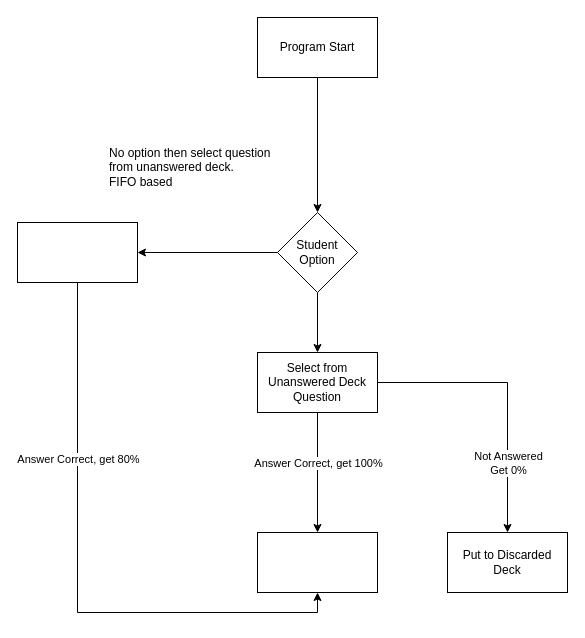
Some shapes in this 585 by 638 pixel diagram are drawn without their labels. Each missing label, with the centre of its shape:
Answer Discarded Deck Question: (x=77, y=252)
Put to Answered Deck: (x=317, y=562)
